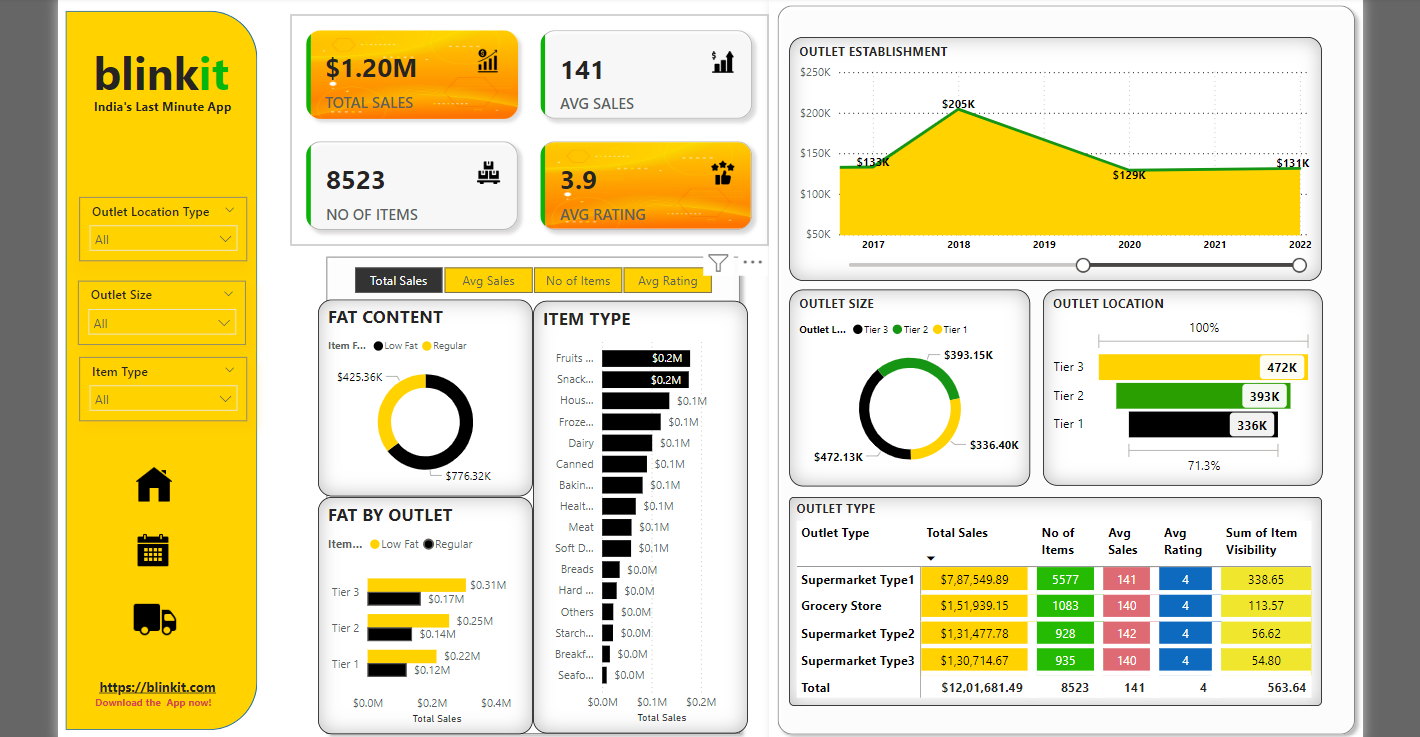

What the dashboard file says about the page in this screenshot:
{"tool":"powerbi","page":{"name":"Page 1","canvas":[1400,800],"ordinal":0},"visuals":[{"type":"shape","box":[8.6,14.3,205.7,771.4],"z":0},{"type":"textbox","box":[25.7,42.9,170,100],"z":1000},{"type":"textbox","box":[10,102.9,205.7,80],"z":2000},{"type":"cardVisual","fields":{"Data":["BlinkIT Grocery Data.Total Sales","BlinkIT Grocery Data.Avg Sales","BlinkIT Grocery Data.No of Items","BlinkIT Grocery Data.Avg Rating"]},"box":[250,18.6,512.9,248.6],"z":3000},{"type":"shape","box":[278.6,270,461.4,530],"z":4000},{"type":"donutChart","title":" FAT CONTENT","fields":{"Y":["BlinkIT Grocery Data.Total Sales"],"Category":["BlinkIT Grocery Data.Item Fat Content"]},"box":[278.6,324.3,230,211.4],"z":5000},{"type":"slicer","fields":{"Values":["Metrics.Metrics"]},"box":[292.9,282.9,432.9,41.4],"z":6000},{"type":"clusteredBarChart","title":"FAT BY OUTLET","fields":{"Y":["BlinkIT Grocery Data.Total Sales"],"Series":["BlinkIT Grocery Data.Item Fat Content"],"Category":["BlinkIT Grocery Data.Outlet Location Type"]},"box":[278.6,535.7,230,254.3],"z":7000},{"type":"barChart","title":"ITEM TYPE","fields":{"Y":["BlinkIT Grocery Data.Total Sales"],"Category":["BlinkIT Grocery Data.Item Type"]},"box":[510,325.7,230,464.3],"z":8000},{"type":"shape","box":[762.9,0,637.1,800],"z":9000},{"type":"lineChart","title":"OUTLET ESTABLISHMENT","fields":{"Y":["BlinkIT Grocery Data.Total Sales"],"Category":["BlinkIT Grocery Data.Outlet Establishment Year"]},"box":[784.3,42.9,571.4,261.4],"z":10000},{"type":"pieChart","title":"OUTLET SIZE","fields":{"Y":["BlinkIT Grocery Data.Total Sales"],"Category":["BlinkIT Grocery Data.Outlet Location Type"]},"box":[784.3,314.3,258.6,211.4],"z":11000},{"type":"funnel","title":"OUTLET LOCATION","fields":{"Y":["Sum(BlinkIT Grocery Data.Sales)"],"Category":["BlinkIT Grocery Data.Outlet Location Type"]},"box":[1055.7,314.3,300,210],"z":12000},{"type":"pivotTable","title":"OUTLET TYPE","fields":{"Rows":["BlinkIT Grocery Data.Outlet Type"],"Values":["BlinkIT Grocery Data.Total Sales","BlinkIT Grocery Data.No of Items","BlinkIT Grocery Data.Avg Sales","BlinkIT Grocery Data.Avg Rating","Sum(BlinkIT Grocery Data.Item Visibility)"]},"box":[784.3,535.7,571.4,224.3],"z":13000},{"type":"slicer","fields":{"Values":["BlinkIT Grocery Data.Outlet Location Type"]},"box":[22.9,214.3,180,68.6],"z":14000},{"type":"slicer","fields":{"Values":["BlinkIT Grocery Data.Outlet Size"]},"box":[21.4,304.3,180,68.6],"z":15000},{"type":"slicer","fields":{"Values":["BlinkIT Grocery Data.Item Type"]},"box":[22.9,385.7,180,68.6],"z":16000},{"type":"image","box":[67.1,498.6,71.4,50],"z":17000},{"type":"image","box":[75.7,571.4,54.3,45.7],"z":18000},{"type":"image","box":[68.6,634.3,71.4,55.7],"z":19000},{"type":"textbox","box":[17.1,725.7,178.6,74.3],"z":20000},{"type":"textbox","box":[0,741.4,204.3,37.1],"z":21000}]}

Visuals, with their boxes in screenshot pixels (x1, y1, x2, y2):
shape: (56,6,250,732)
textbox: (72,33,232,127)
textbox: (57,89,251,165)
cardVisual - BlinkIT Grocery Data.Total Sales x BlinkIT Grocery Data.Avg Sales: (283,10,766,244)
shape: (310,247,744,736)
" FAT CONTENT" donutChart: (310,298,526,496)
slicer - Metrics.Metrics: (324,259,731,298)
"FAT BY OUTLET" clusteredBarChart: (310,496,526,736)
"ITEM TYPE" barChart: (528,299,744,736)
shape: (766,0,1365,736)
"OUTLET ESTABLISHMENT" lineChart: (786,33,1323,279)
"OUTLET SIZE" pieChart: (786,288,1029,487)
"OUTLET LOCATION" funnel: (1041,288,1323,486)
"OUTLET TYPE" pivotTable: (786,496,1323,707)
slicer - BlinkIT Grocery Data.Outlet Location Type: (70,194,239,259)
slicer - BlinkIT Grocery Data.Outlet Size: (68,279,237,343)
slicer - BlinkIT Grocery Data.Item Type: (70,355,239,420)
image: (111,462,178,509)
image: (119,530,170,573)
image: (113,589,180,642)
textbox: (64,675,232,736)
textbox: (48,690,240,725)
